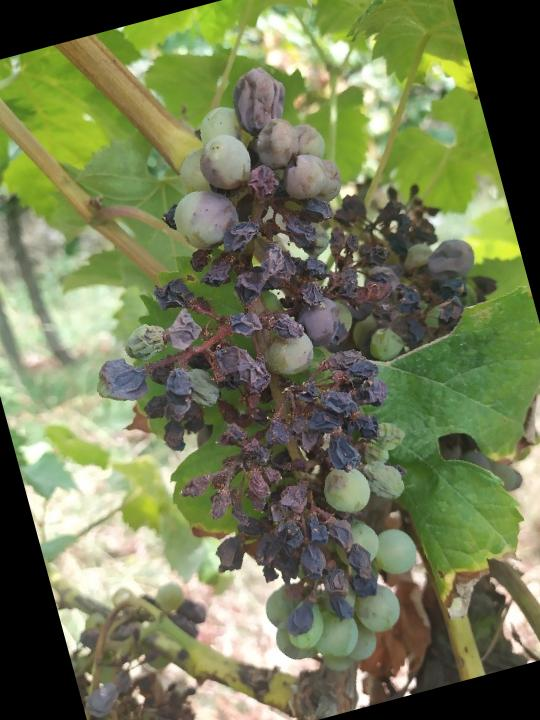grape: (23, 20, 540, 717)
